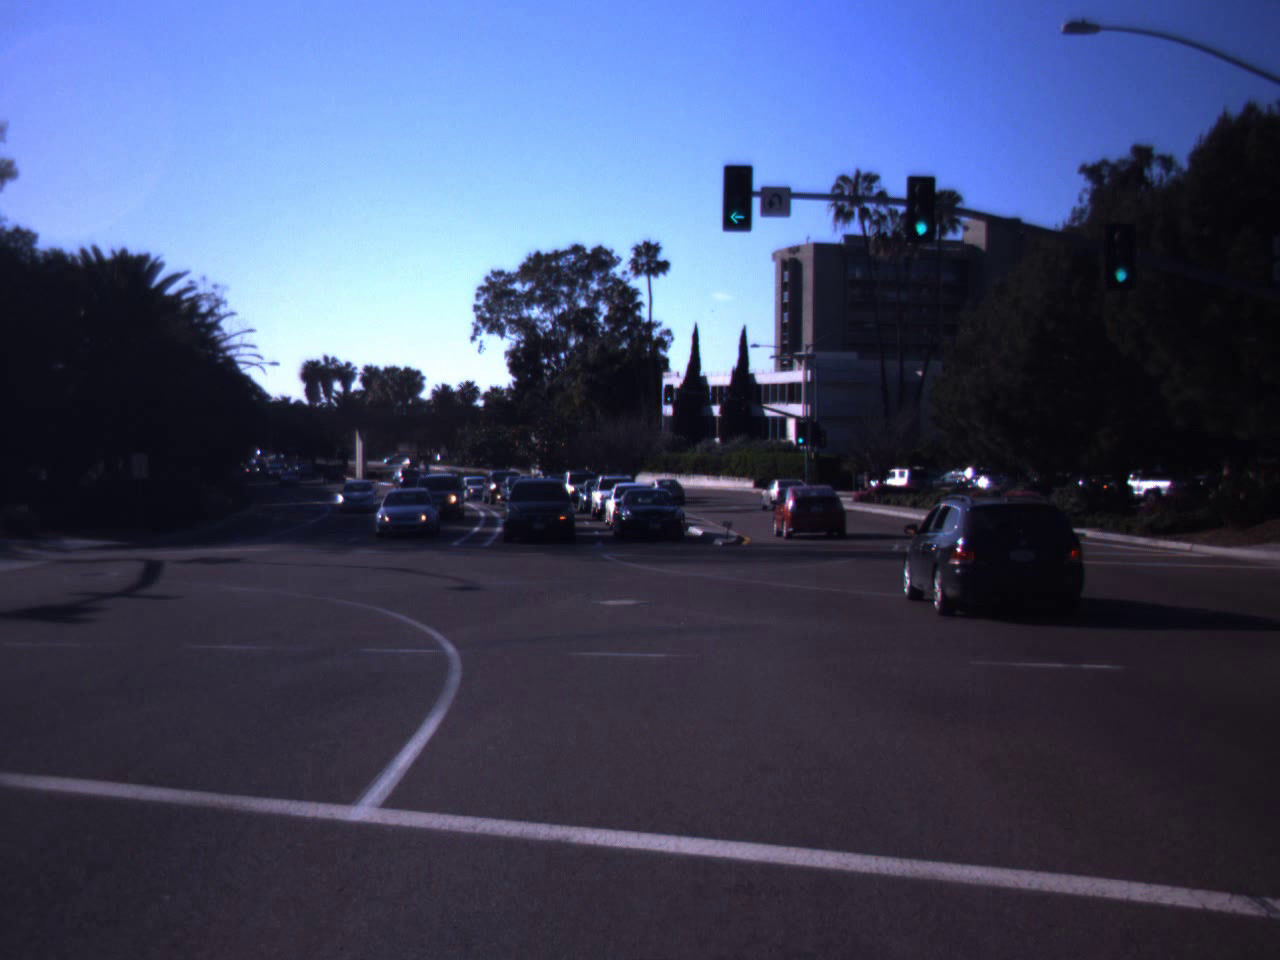go: (712, 158, 760, 228), (1109, 236, 1133, 286), (911, 197, 932, 237)
